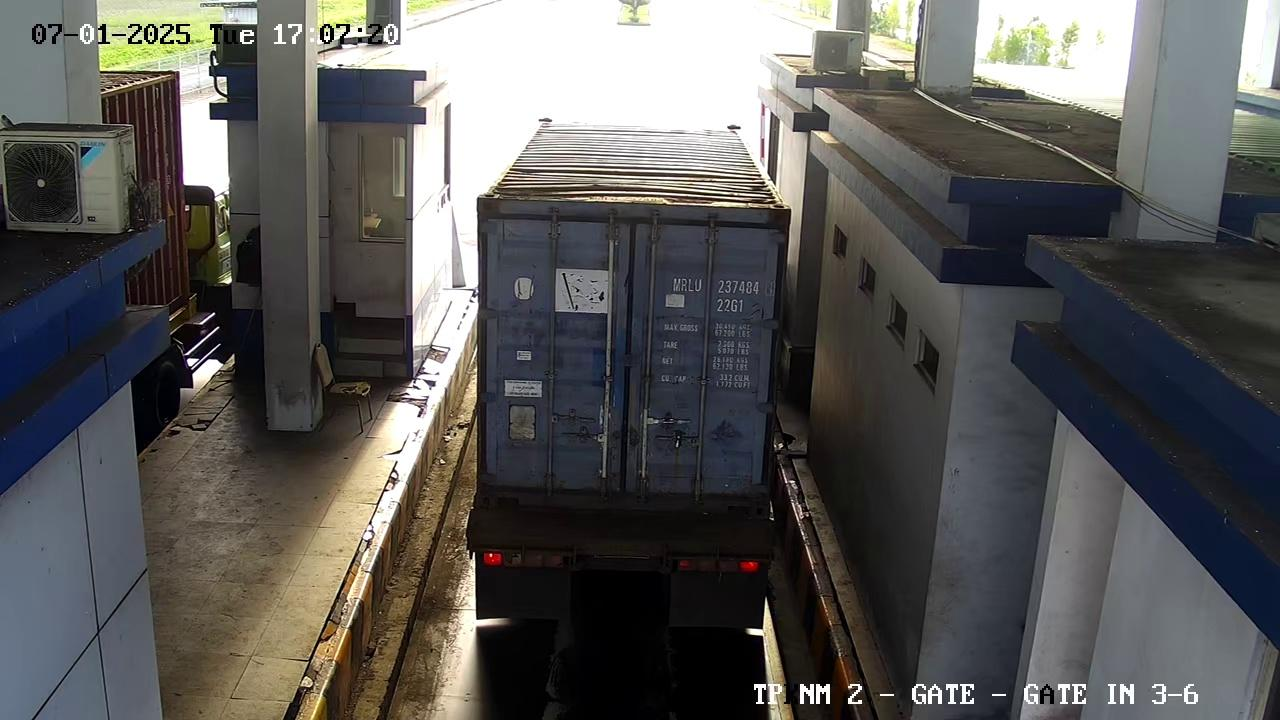Container_ID: (662, 267, 785, 323)
